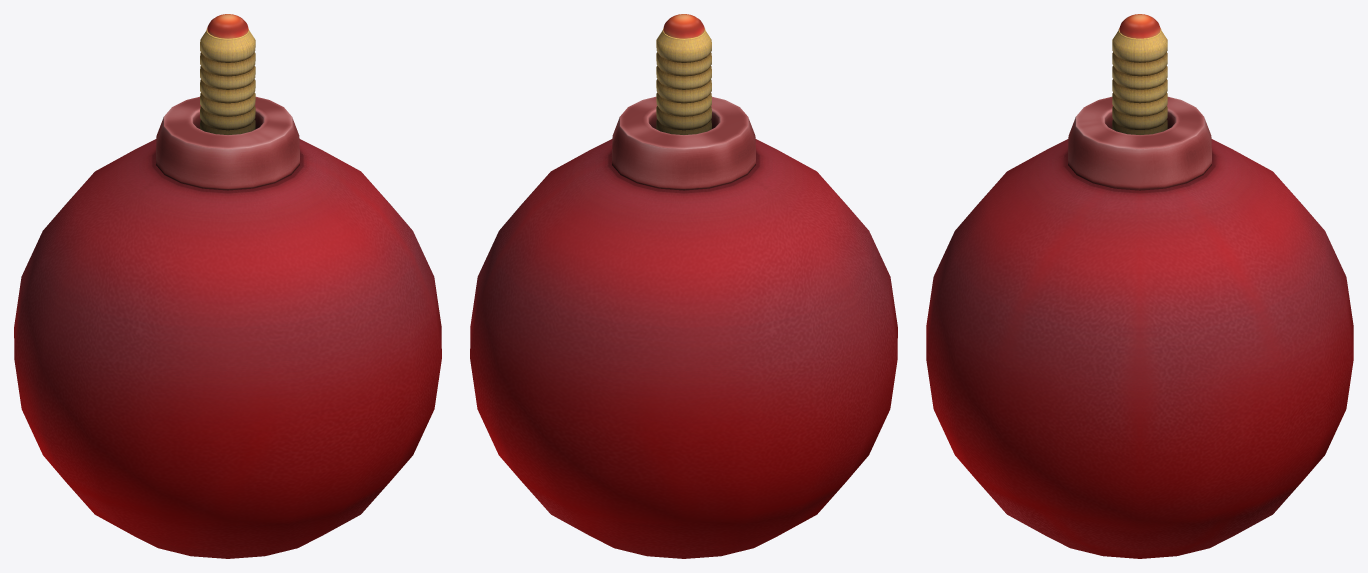
Rendered from Bomb_red.fbx.
The picture shows the model from 3 angles, left to right: view 1: azimuth 30°, elevation 25°; view 2: azimuth 150°, elevation 25°; view 3: azimuth 270°, elevation 25°; orthographic projection.
Parts seen in each view (by area): view 1: Sphere, cylinder, roop, fire; view 2: Sphere, cylinder, roop, fire; view 3: Sphere, cylinder, roop, fire.
Part boxes in pixels (bbox=[...]): Sphere: bbox=[14, 139, 441, 558]; cylinder: bbox=[156, 96, 299, 190]; roop: bbox=[200, 28, 255, 134]; fire: bbox=[207, 14, 248, 38]; Sphere: bbox=[470, 139, 897, 558]; cylinder: bbox=[612, 96, 755, 190]; roop: bbox=[656, 28, 711, 134]; fire: bbox=[663, 14, 704, 38]; Sphere: bbox=[926, 139, 1353, 558]; cylinder: bbox=[1068, 96, 1211, 190]; roop: bbox=[1112, 28, 1167, 134]; fire: bbox=[1119, 14, 1160, 38].
Size of the model in its own units: 52.96 by 70.4 by 52.13.
